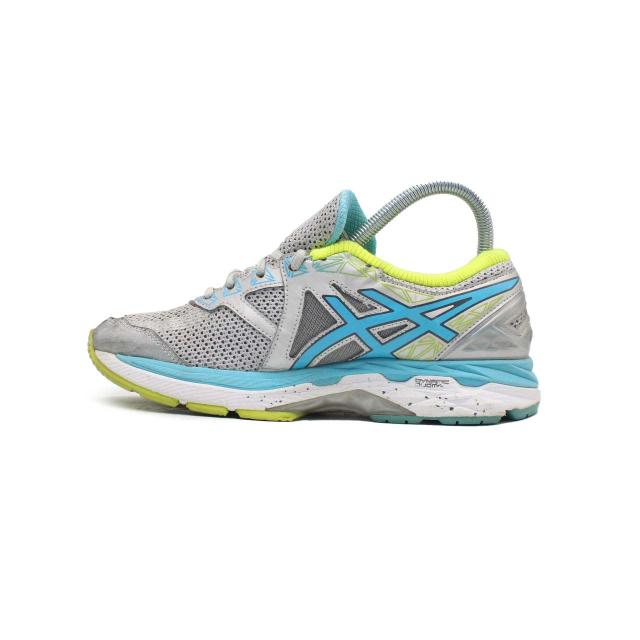heel: (449, 246, 532, 357)
midsole: (89, 328, 542, 424)
uppersole: (95, 192, 452, 371)
